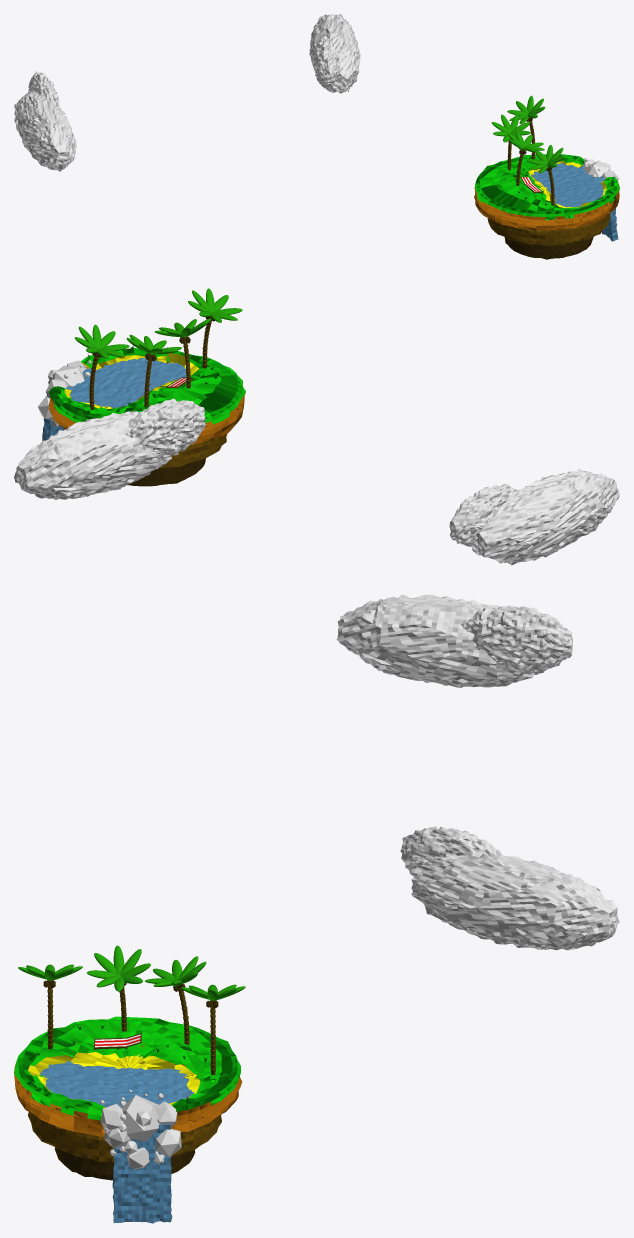
File: island_2.fbx
3 renders of one model, top to bottom at view 1: azimuth 30°, elevation 25°; view 2: azimuth 150°, elevation 25°; view 3: azimuth 270°, elevation 25°, orthographic. The views are drawn at different scales.
Parts seen in each view (by area): view 1: Cylinder_1, Platonic_1_4, Platonic_1, Plane, Cylinder, Cylinder_2, Platonic, Platonic_4; view 2: Platonic_1_4, Platonic_1, Cylinder_1, Plane, Platonic, Platonic_4, Cylinder_2, Cylinder, Sphere_2; view 3: Platonic_1, Cylinder_1, Platonic_1_4, Platonic_4, Plane, Cube, Cylinder, Platonic, Cylinder_2, Sphere_2.
Boxes of the visible parts, bbox=[...] form: Cylinder_1: bbox=[474, 154, 619, 230]; Platonic_1_4: bbox=[14, 91, 76, 171]; Platonic_1: bbox=[309, 14, 360, 93]; Plane: bbox=[531, 163, 604, 207]; Cylinder: bbox=[487, 213, 610, 245]; Cylinder_2: bbox=[504, 237, 593, 259]; Platonic: bbox=[313, 36, 338, 88]; Platonic_4: bbox=[28, 71, 59, 106]; Platonic_1_4: bbox=[472, 468, 619, 565]; Platonic_1: bbox=[14, 411, 171, 499]; Cylinder_1: bbox=[48, 348, 245, 445]; Plane: bbox=[66, 358, 186, 408]; Platonic: bbox=[124, 398, 205, 457]; Platonic_4: bbox=[449, 483, 518, 547]; Cylinder_2: bbox=[128, 458, 205, 486]; Cylinder: bbox=[158, 433, 227, 469]; Sphere_2: bbox=[48, 365, 84, 386]; Platonic_1: bbox=[411, 853, 619, 950]; Cylinder_1: bbox=[14, 1016, 242, 1137]; Platonic_1_4: bbox=[336, 594, 544, 687]; Platonic_4: bbox=[460, 605, 572, 673]; Plane: bbox=[39, 1061, 194, 1107]; Cube: bbox=[112, 1123, 172, 1223]; Cylinder: bbox=[28, 1112, 221, 1162]; Platonic: bbox=[400, 826, 501, 875]; Cylinder_2: bbox=[54, 1147, 195, 1180]; Sphere_2: bbox=[121, 1095, 159, 1141].
Size of the model in its own units: 1868 by 637 by 1265.
